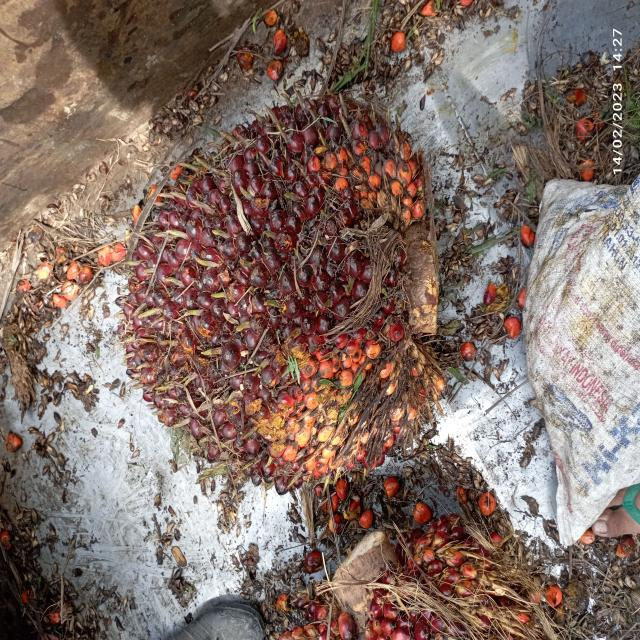fraksi 1: (31, 44, 475, 552)
